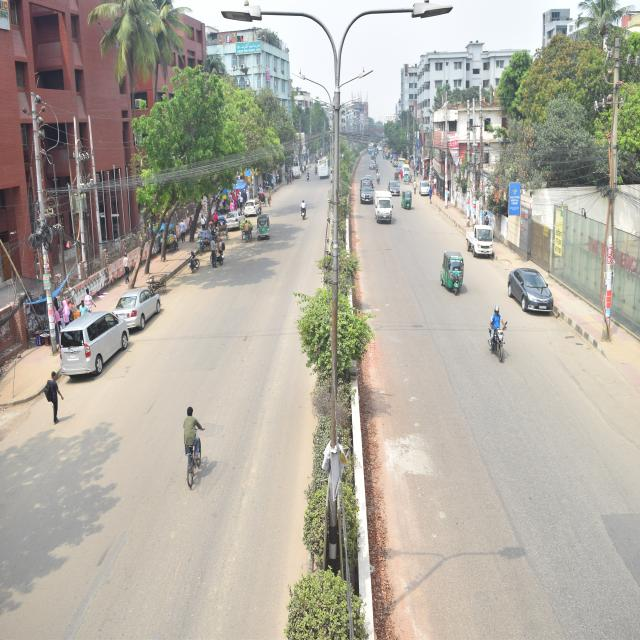bus: (314, 154, 338, 188)
car: (42, 306, 141, 386), (504, 252, 560, 346), (109, 281, 167, 339), (218, 204, 248, 234), (241, 188, 268, 218), (415, 172, 436, 207), (366, 159, 376, 168)
motorbike: (476, 286, 524, 379), (202, 234, 226, 264), (298, 196, 314, 234), (304, 165, 316, 194), (309, 156, 318, 180)
pickup-van: (457, 218, 505, 260), (370, 187, 395, 226), (358, 175, 377, 215)
